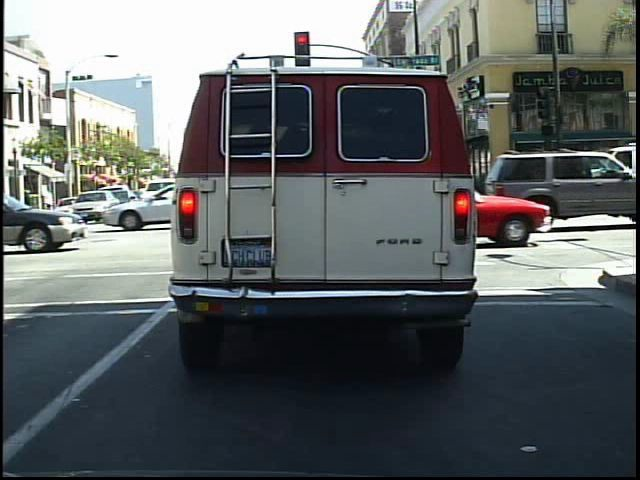person: (596, 142, 621, 209), (538, 151, 562, 209), (513, 156, 535, 207)
